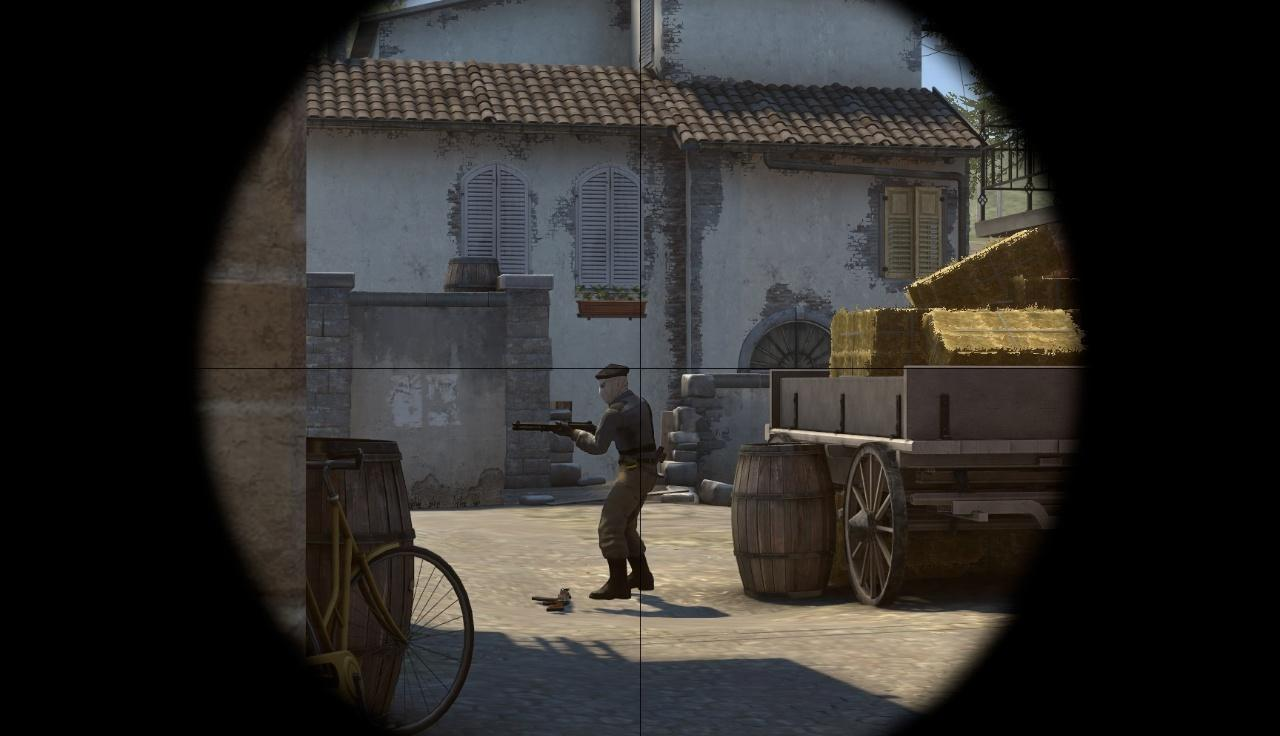tt: (588, 366, 655, 597)
tthead: (598, 366, 630, 404)
